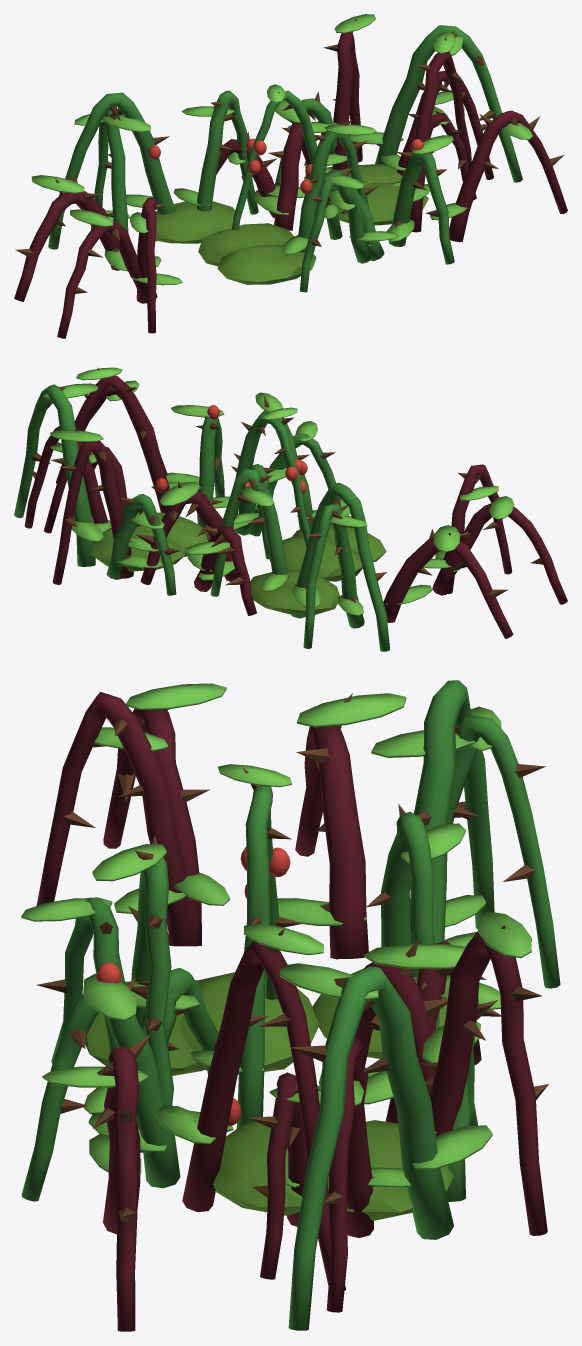
File: glade_thorn_thicket.glb
3 renders of one model, top to bottom at view 1: azimuth 30°, elevation 25°; view 2: azimuth 150°, elevation 25°; view 3: azimuth 270°, elevation 25°, orthographic. The views are drawn at different scales.
Parts seen in each view (by area): view 1: glade_thorn_thicket; view 2: glade_thorn_thicket; view 3: glade_thorn_thicket.
Boxes of the visible parts, box(x1,y1,x2,y2) form: glade_thorn_thicket: box(14, 14, 567, 338); glade_thorn_thicket: box(14, 367, 567, 651); glade_thorn_thicket: box(21, 680, 560, 1331).
Bounding box in the file's own units: 18.98 × 6 × 8.73.
